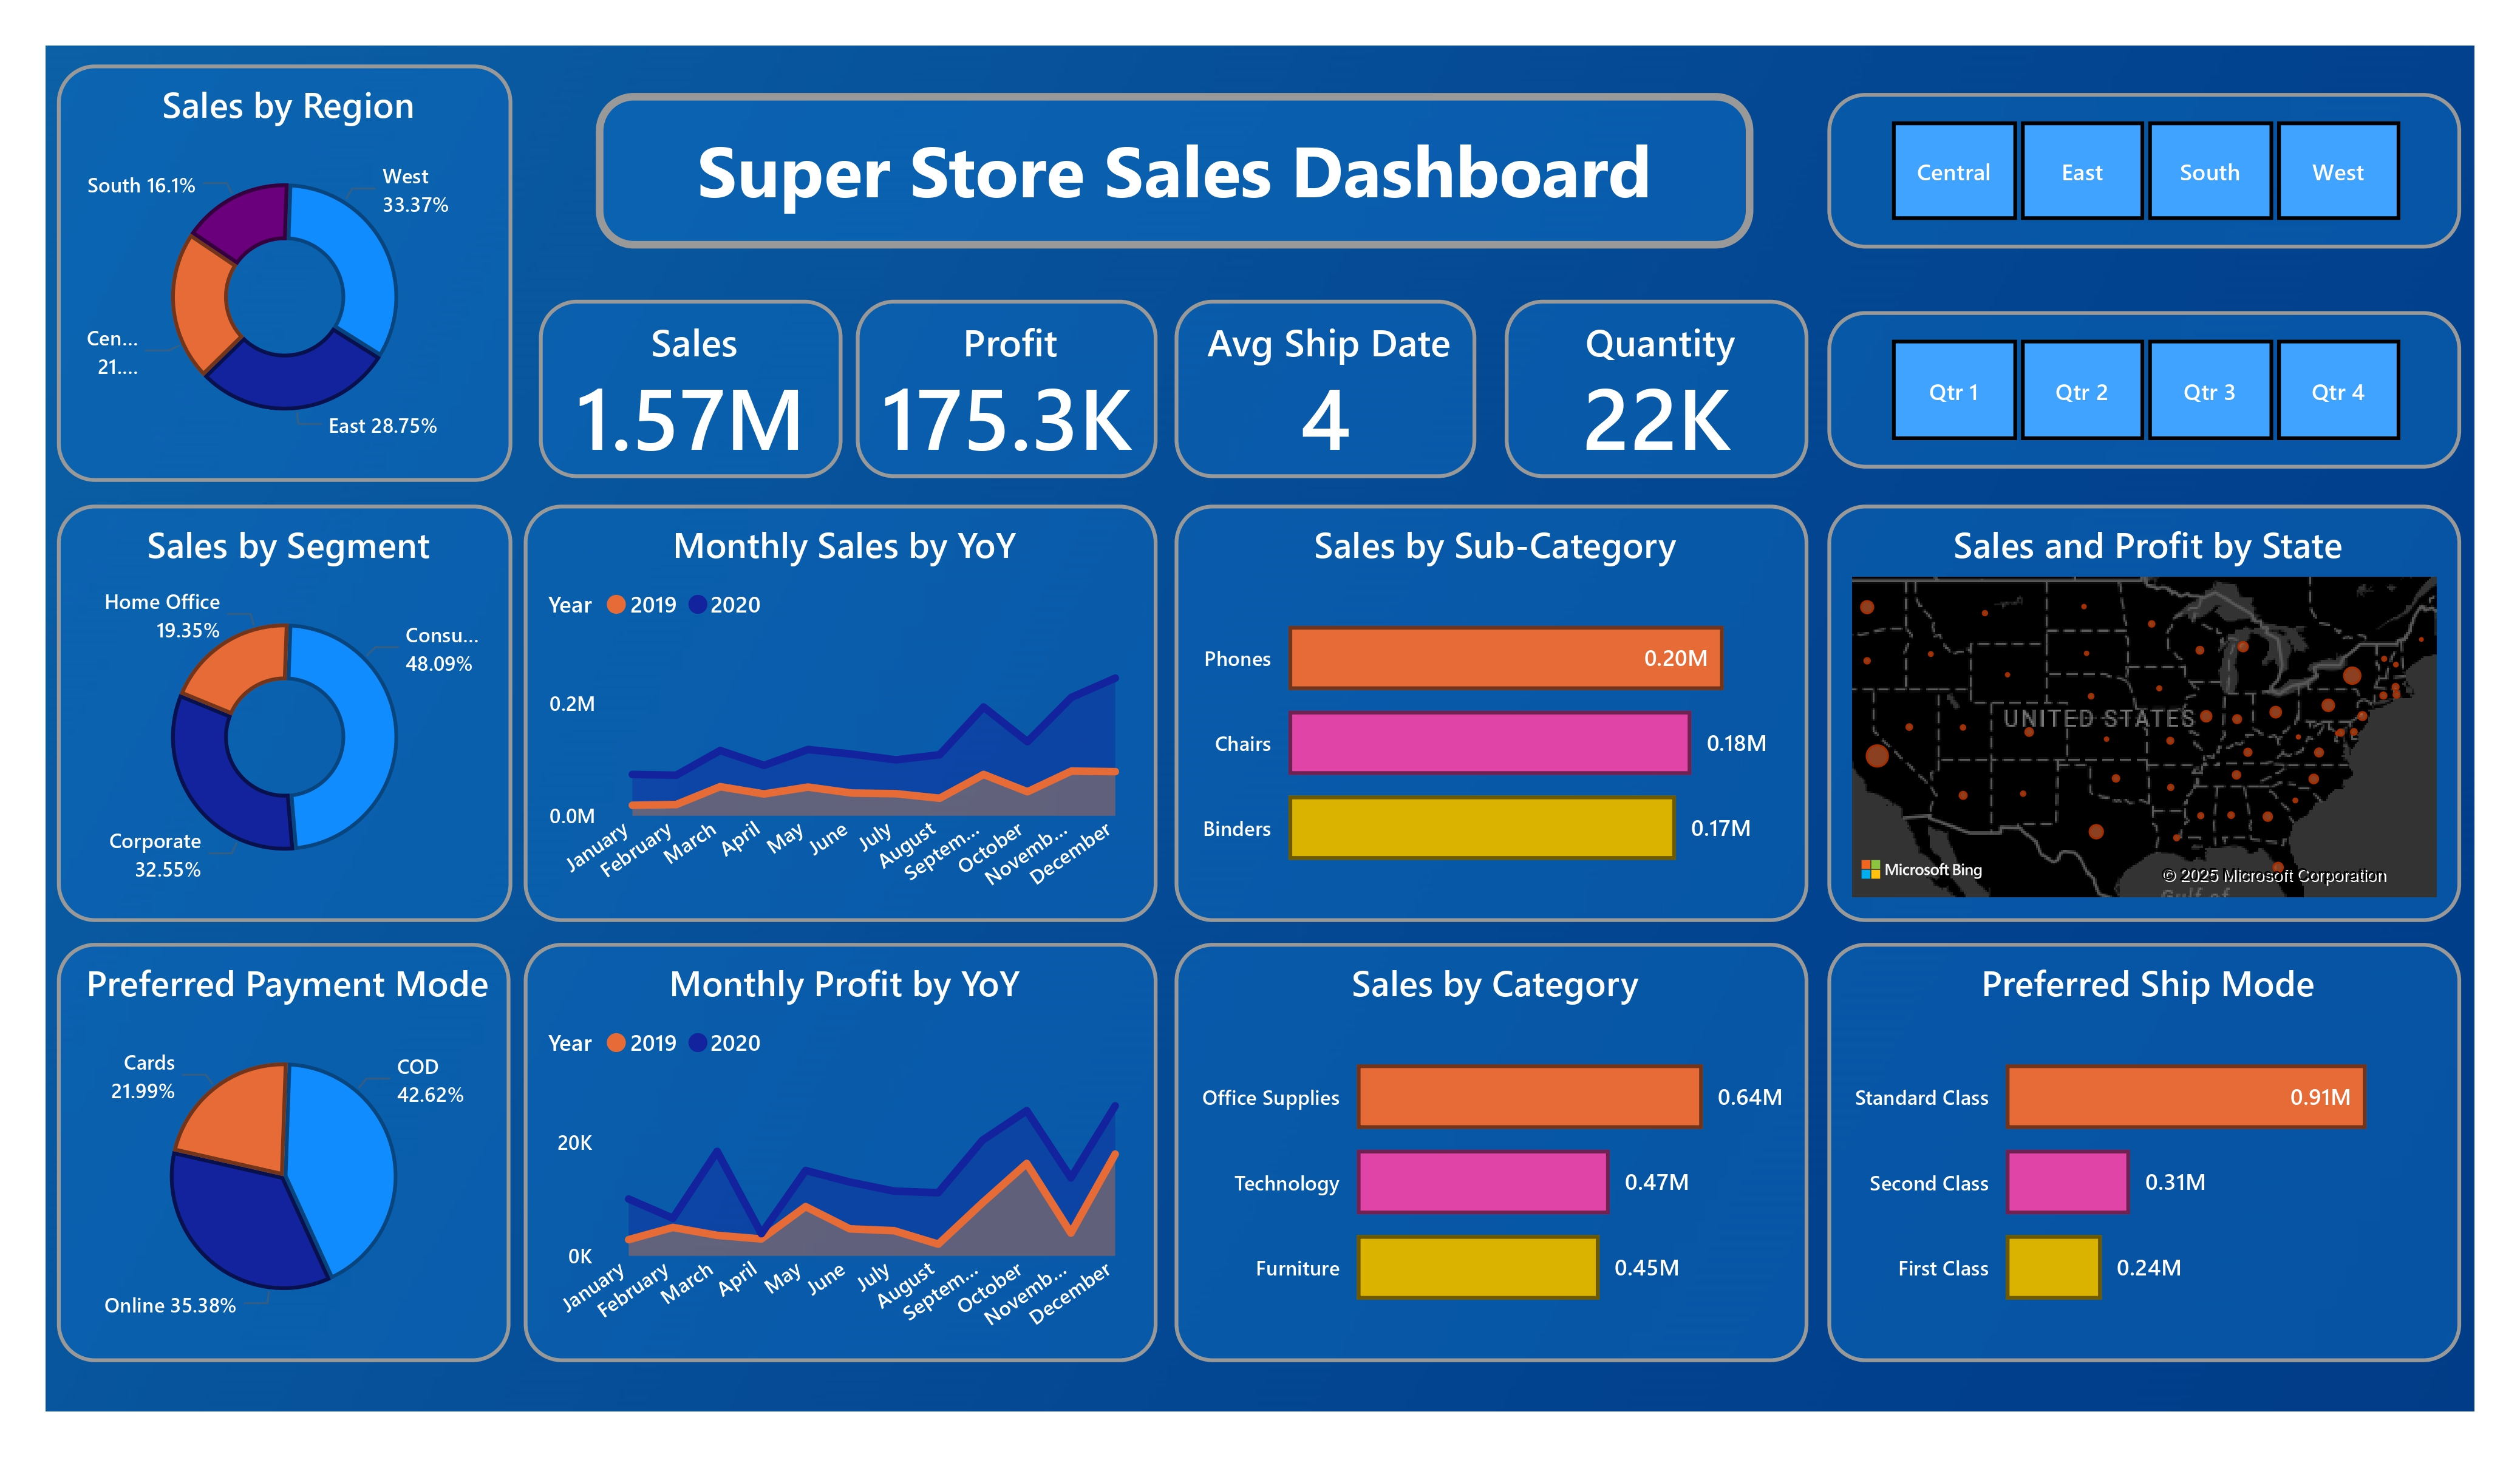

What the dashboard file says about the page in this screenshot:
{"tool":"powerbi","page":{"name":"Dashboard","canvas":[1280,720],"ordinal":0},"visuals":[{"type":"barChart","title":"Sales by Category","fields":{"Category":["SuperStore_Sales_Dataset.Category"],"Y":["Sum(SuperStore_Sales_Dataset.Sales)"]},"box":[594.6,473.5,334.5,220.2],"z":0},{"type":"barChart","title":"Sales by Sub-Category","fields":{"Category":["SuperStore_Sales_Dataset.Sub-Category"],"Y":["Sum(SuperStore_Sales_Dataset.Sales)"]},"box":[594.6,242.2,334.5,220.2],"z":1000},{"type":"barChart","title":"Preferred Ship Mode","fields":{"Category":["SuperStore_Sales_Dataset.Ship Mode"],"Y":["Sum(SuperStore_Sales_Dataset.Sales)"]},"box":[938.7,473.5,334.5,220.2],"z":2000},{"type":"stackedAreaChart","title":"Monthly Sales by YoY","fields":{"Category":["SuperStore_Sales_Dataset.Order Date.Variation.Date Hierarchy.Month","SuperStore_Sales_Dataset.Order Date.Variation.Date Hierarchy.Day"],"Y":["Sum(SuperStore_Sales_Dataset.Sales)"],"Series":["SuperStore_Sales_Dataset.Order Date.Variation.Date Hierarchy.Year"]},"box":[251.9,242.2,334.5,220.2],"z":3000},{"type":"stackedAreaChart","title":"Monthly Profit by YoY","fields":{"Category":["SuperStore_Sales_Dataset.Order Date.Variation.Date Hierarchy.Month","SuperStore_Sales_Dataset.Order Date.Variation.Date Hierarchy.Day"],"Series":["SuperStore_Sales_Dataset.Order Date.Variation.Date Hierarchy.Year"],"Y":["Sum(SuperStore_Sales_Dataset.Profit)"]},"box":[251.9,473.5,334.5,220.2],"z":4000},{"type":"map","title":"Sales and Profit by State","fields":{"Category":["SuperStore_Sales_Dataset.State"],"Size":["Sum(SuperStore_Sales_Dataset.Sales)"]},"box":[938.7,242.2,334.5,220.2],"z":5000},{"type":"donutChart","title":"Sales by Segment","fields":{"Category":["SuperStore_Sales_Dataset.Segment"],"Y":["Sum(SuperStore_Sales_Dataset.Sales)"]},"box":[5.5,242.2,240,220.2],"z":6000},{"type":"slicer","fields":{"Values":["SuperStore_Sales_Dataset.Region"]},"box":[938.7,24.8,334.5,82.6],"z":7000},{"type":"donutChart","title":"Preferred Payment Mode","fields":{"Y":["Sum(SuperStore_Sales_Dataset.Sales)"],"Category":["SuperStore_Sales_Dataset.Payment Mode"]},"box":[5.5,473.5,239.5,220.2],"z":8000},{"type":"card","title":"Sales","fields":{"Values":["Sum(SuperStore_Sales_Dataset.Sales)"]},"box":[260.1,133.5,159.7,95],"z":9000},{"type":"textbox","box":[290,24.8,610,82.6],"z":10000},{"type":"card","title":"Profit","fields":{"Values":["Sum(SuperStore_Sales_Dataset.Profit)"]},"box":[426.7,133.5,159.7,95],"z":11000},{"type":"card","title":"Quantity","fields":{"Values":["Sum(SuperStore_Sales_Dataset.Quantity)"]},"box":[769.4,133.5,159.7,95],"z":12000},{"type":"card","title":"Avg Ship Date","fields":{"Values":["Avg(SuperStore_Sales_Dataset.Avg-Delivery)"]},"box":[594.6,133.5,159.7,95],"z":13000},{"type":"donutChart","title":"Sales by Region","fields":{"Y":["Sum(SuperStore_Sales_Dataset.Sales)"],"Category":["SuperStore_Sales_Dataset.Region"]},"box":[5.5,9.6,240.9,220.2],"z":14000},{"type":"slicer","fields":{"Values":["SuperStore_Sales_Dataset.Order Date.Variation.Date Hierarchy.Quarter"]},"box":[938.7,140.4,334.5,82.6],"z":15000}]}

Visuals, with their boxes on the page's 1280x720 design canvas (x1, y1, x2, y2). These are canvas units, not pixel positions in the 2520x1457 screenshot, which may show the page scaled, cropped or inside an application window:
"Sales by Category" barChart: box=[595, 474, 929, 694]
"Sales by Sub-Category" barChart: box=[595, 242, 929, 462]
"Preferred Ship Mode" barChart: box=[939, 474, 1273, 694]
"Monthly Sales by YoY" stackedAreaChart: box=[252, 242, 586, 462]
"Monthly Profit by YoY" stackedAreaChart: box=[252, 474, 586, 694]
"Sales and Profit by State" map: box=[939, 242, 1273, 462]
"Sales by Segment" donutChart: box=[6, 242, 246, 462]
slicer - SuperStore_Sales_Dataset.Region: box=[939, 25, 1273, 107]
"Preferred Payment Mode" donutChart: box=[6, 474, 245, 694]
"Sales" card: box=[260, 134, 420, 228]
textbox: box=[290, 25, 900, 107]
"Profit" card: box=[427, 134, 586, 228]
"Quantity" card: box=[769, 134, 929, 228]
"Avg Ship Date" card: box=[595, 134, 754, 228]
"Sales by Region" donutChart: box=[6, 10, 246, 230]
slicer - SuperStore_Sales_Dataset.Order Date.Variation.Date Hierarchy.Quarter: box=[939, 140, 1273, 223]
